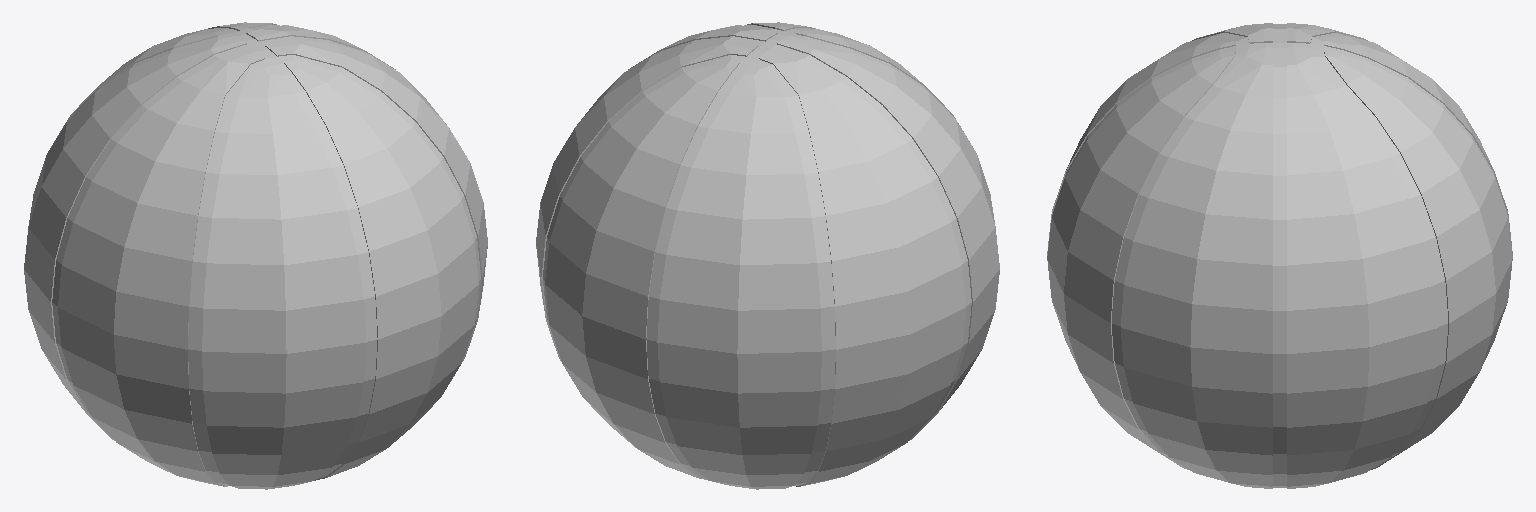
The model's file is ball.obj.
The picture shows the model from 3 angles: view 1: azimuth 30°, elevation 25°; view 2: azimuth 150°, elevation 25°; view 3: azimuth 270°, elevation 25°; orthographic projection.
Parts seen in each view (by area): view 1: BasketballBall.001; view 2: BasketballBall.001; view 3: BasketballBall.001.
Part boxes in pixels (x1,y1,x2,y2): BasketballBall.001: (24, 22, 487, 489); BasketballBall.001: (536, 22, 999, 489); BasketballBall.001: (1047, 23, 1512, 488).
Size of the model in its own units: 0.7499 by 0.7527 by 0.7499.